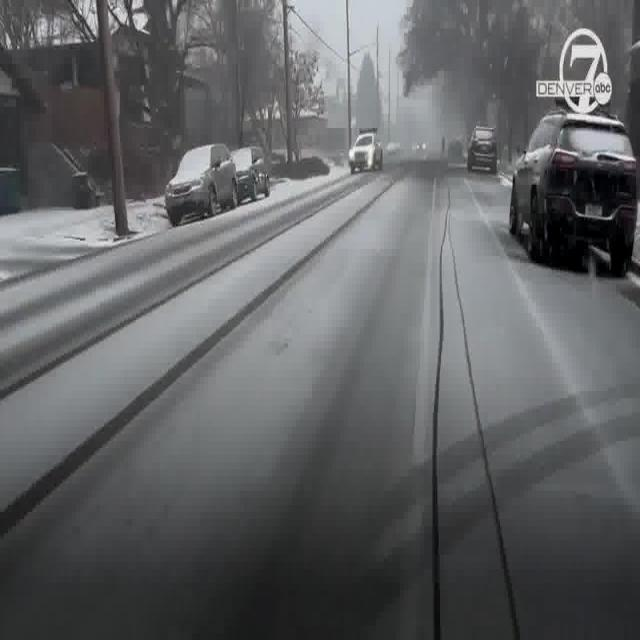Car: (507, 108, 639, 272), (163, 140, 241, 225), (346, 126, 387, 171), (466, 125, 502, 172)
